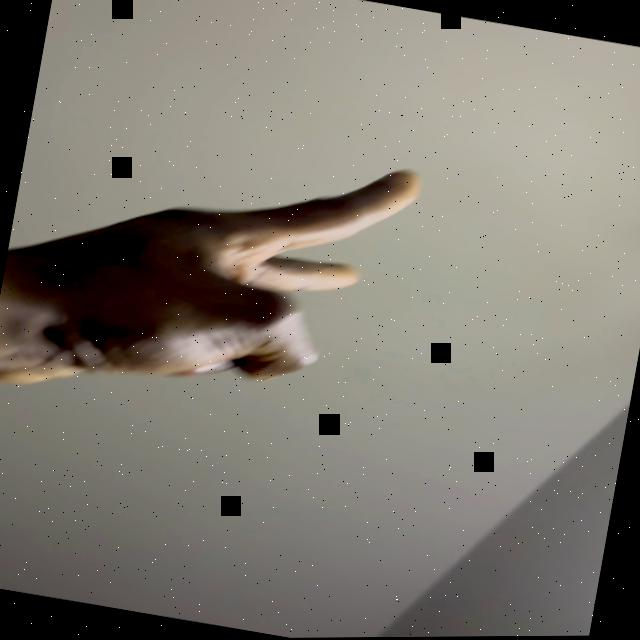Scissors: (0, 103, 423, 444)
